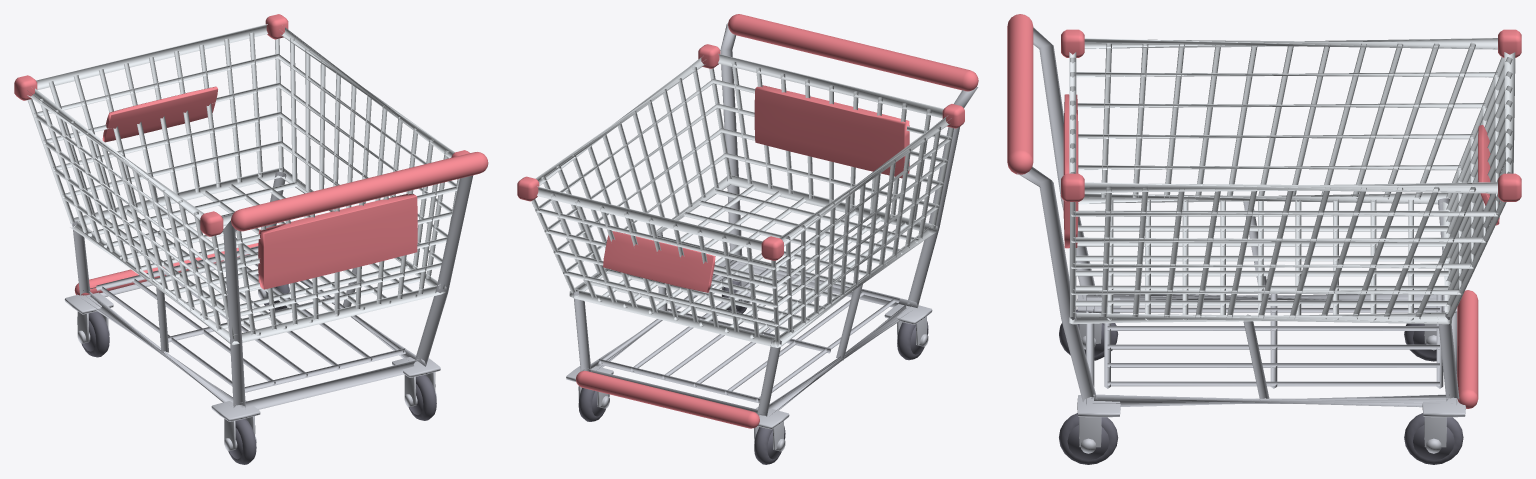
The model's file is ShoppingCart.glb.
3 views of the same model, side by side, from view 1: azimuth 30°, elevation 25°; view 2: azimuth 150°, elevation 25°; view 3: azimuth 270°, elevation 25° (orthographic). The views are drawn at different scales.
Visible parts, largest first — view 1: Basket, Frame, Chassis, Wheels; view 2: Basket, Frame, Chassis, Wheels; view 3: Basket, Chassis, Frame, Wheels.
Part boxes in pixels (box(x1,y1,x2,y2)): Basket: box(27, 24, 459, 344); Frame: box(14, 14, 488, 295); Chassis: box(64, 164, 488, 450); Wheels: box(81, 284, 436, 464); Basket: box(531, 54, 953, 347); Frame: box(517, 14, 978, 428); Chassis: box(566, 23, 977, 451); Wheels: box(578, 280, 928, 464); Basket: box(1069, 38, 1515, 324); Chassis: box(1017, 27, 1465, 453); Frame: box(1007, 14, 1521, 408); Wheels: box(1059, 309, 1463, 464).
Bounding box in the file's own units: 4.17 × 4.17 × 5.89.
